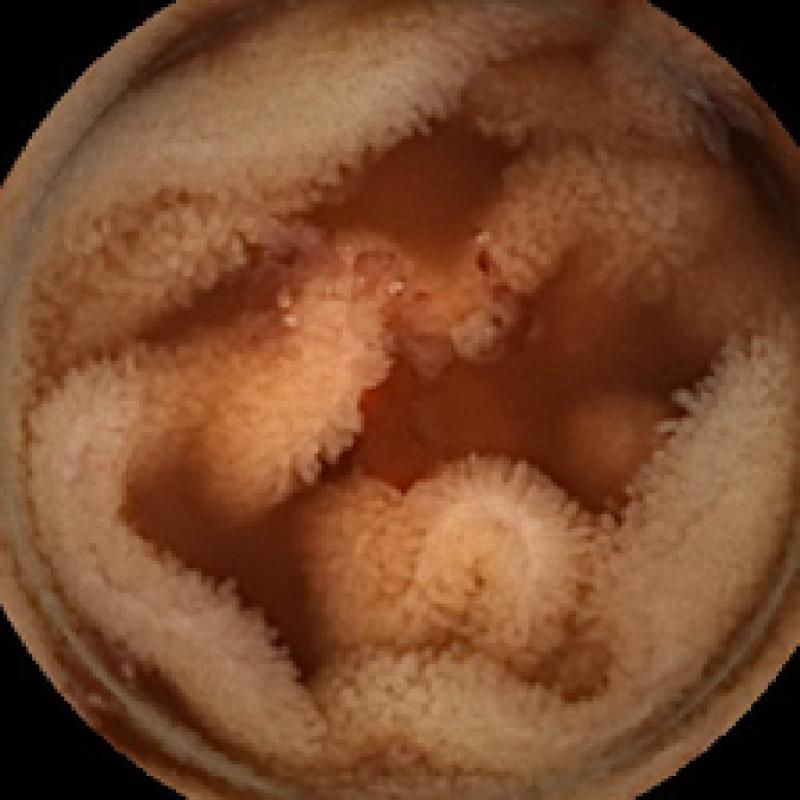bleeding: (357, 232, 536, 489)
